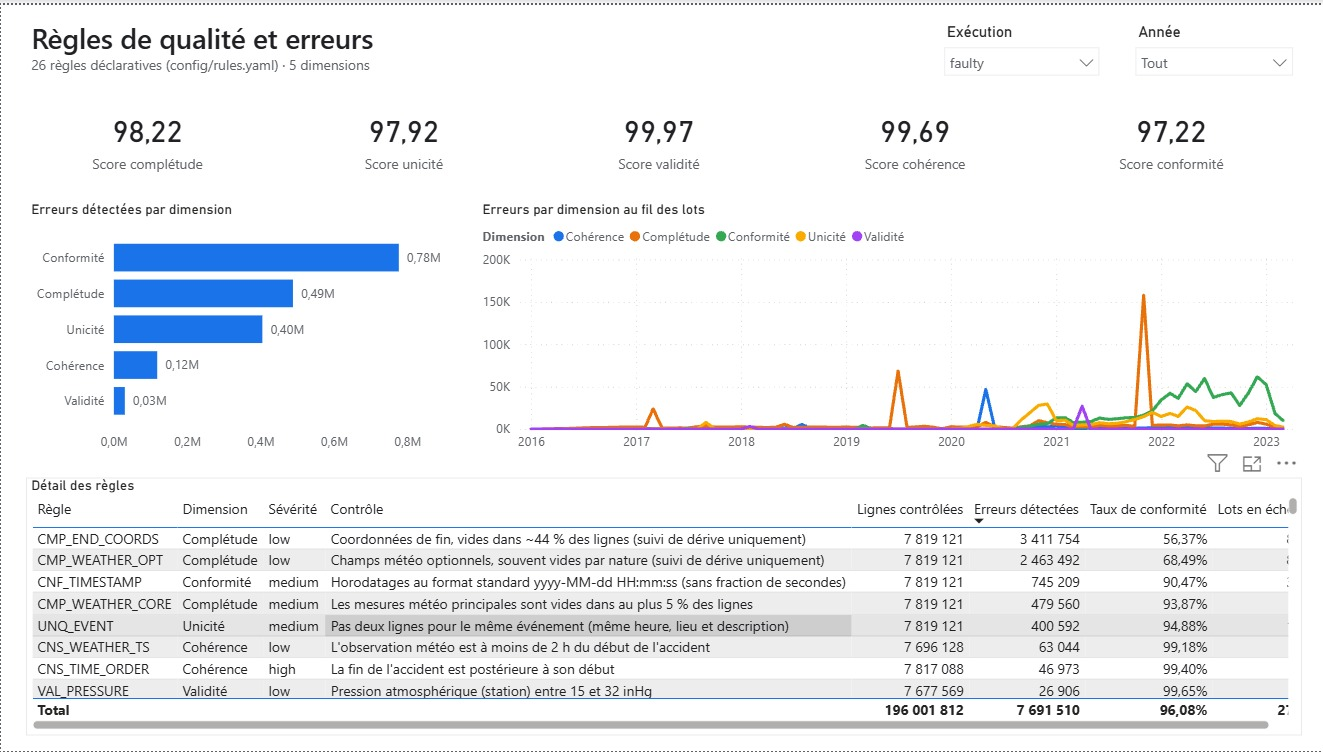

The page's visual inventory and layout, read from the dashboard file:
{"tool":"powerbi","page":{"name":"Règles et erreurs","canvas":[1280,720],"ordinal":2},"visuals":[{"type":"textbox","box":[24,8,860,64],"z":2000},{"type":"slicer","fields":{"Values":["dim_run.run_id"]},"box":[900,12,170,58],"z":3000},{"type":"slicer","fields":{"Values":["dim_batch.Annee"]},"box":[1084,12,172,58],"z":4000},{"type":"card","fields":{"Values":["_Mesures.Score complétude"]},"box":[24,84,235,90],"z":5000},{"type":"card","fields":{"Values":["_Mesures.Score unicité"]},"box":[271,84,235,90],"z":6000},{"type":"card","fields":{"Values":["_Mesures.Score validité"]},"box":[518,84,235,90],"z":7000},{"type":"card","fields":{"Values":["_Mesures.Score cohérence"]},"box":[765,84,235,90],"z":8000},{"type":"card","fields":{"Values":["_Mesures.Score conformité"]},"box":[1012,84,235,90],"z":9000},{"type":"clusteredBarChart","title":"Erreurs détectées par dimension","fields":{"Category":["dim_rule.Dimension qualité"],"Y":["_Mesures.Erreurs (règles notées)"]},"box":[24,190,420,250],"z":10000},{"type":"lineChart","title":"Erreurs par dimension au fil des lots","fields":{"Category":["dim_batch.Date"],"Y":["_Mesures.Erreurs (règles notées)"],"Series":["dim_rule.Dimension qualité"]},"box":[460,190,796,250],"z":11000},{"type":"tableEx","title":"Détail des règles","fields":{"Values":["fact_rule_result.rule_id","dim_rule.Dimension qualité","dim_rule.severity","dim_rule.description","_Mesures.Lignes contrôlées","_Mesures.Erreurs détectées","_Mesures.Taux de conformité","_Mesures.Règles en échec"]},"box":[24,456,1232,248],"z":12000}]}

Visuals, with their boxes in screenshot pixels (x1, y1, x2, y2), scaled from the page's 1280x720 canvas onto the 1323x752 screenshot:
textbox: [x1=25, y1=8, x2=914, y2=75]
slicer - dim_run.run_id: [x1=930, y1=13, x2=1106, y2=73]
slicer - dim_batch.Annee: [x1=1120, y1=13, x2=1298, y2=73]
card - _Mesures.Score complétude: [x1=25, y1=88, x2=268, y2=182]
card - _Mesures.Score unicité: [x1=280, y1=88, x2=523, y2=182]
card - _Mesures.Score validité: [x1=535, y1=88, x2=778, y2=182]
card - _Mesures.Score cohérence: [x1=791, y1=88, x2=1034, y2=182]
card - _Mesures.Score conformité: [x1=1046, y1=88, x2=1289, y2=182]
"Erreurs détectées par dimension" clusteredBarChart: [x1=25, y1=198, x2=459, y2=460]
"Erreurs par dimension au fil des lots" lineChart: [x1=475, y1=198, x2=1298, y2=460]
"Détail des règles" tableEx: [x1=25, y1=476, x2=1298, y2=735]
